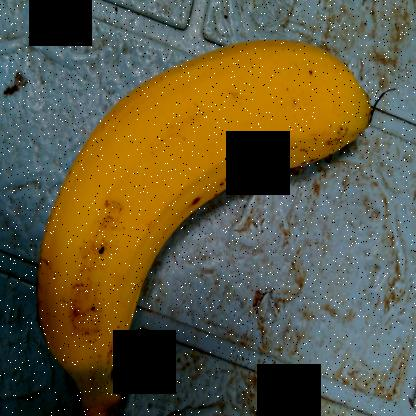freshripe: (26, 32, 382, 381)
